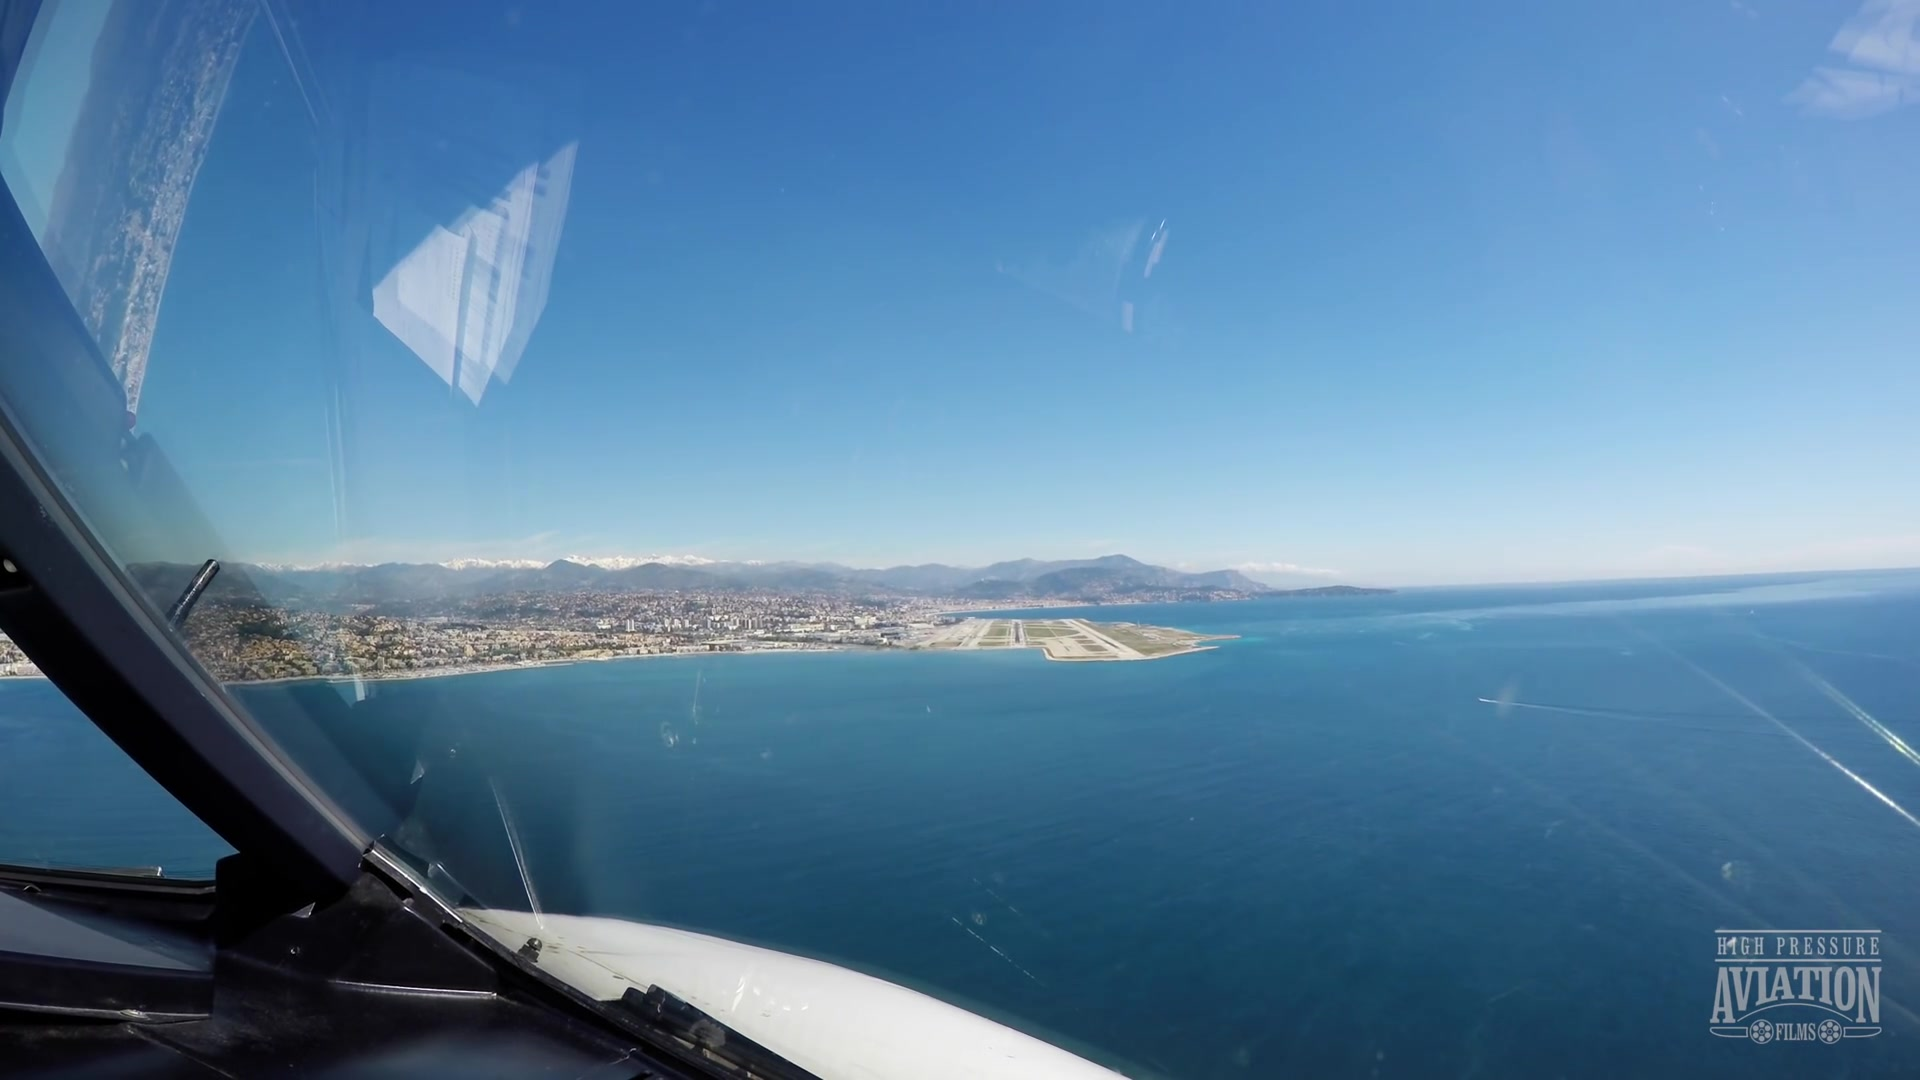runway: (1062, 618, 1149, 659), (1007, 618, 1027, 650)
